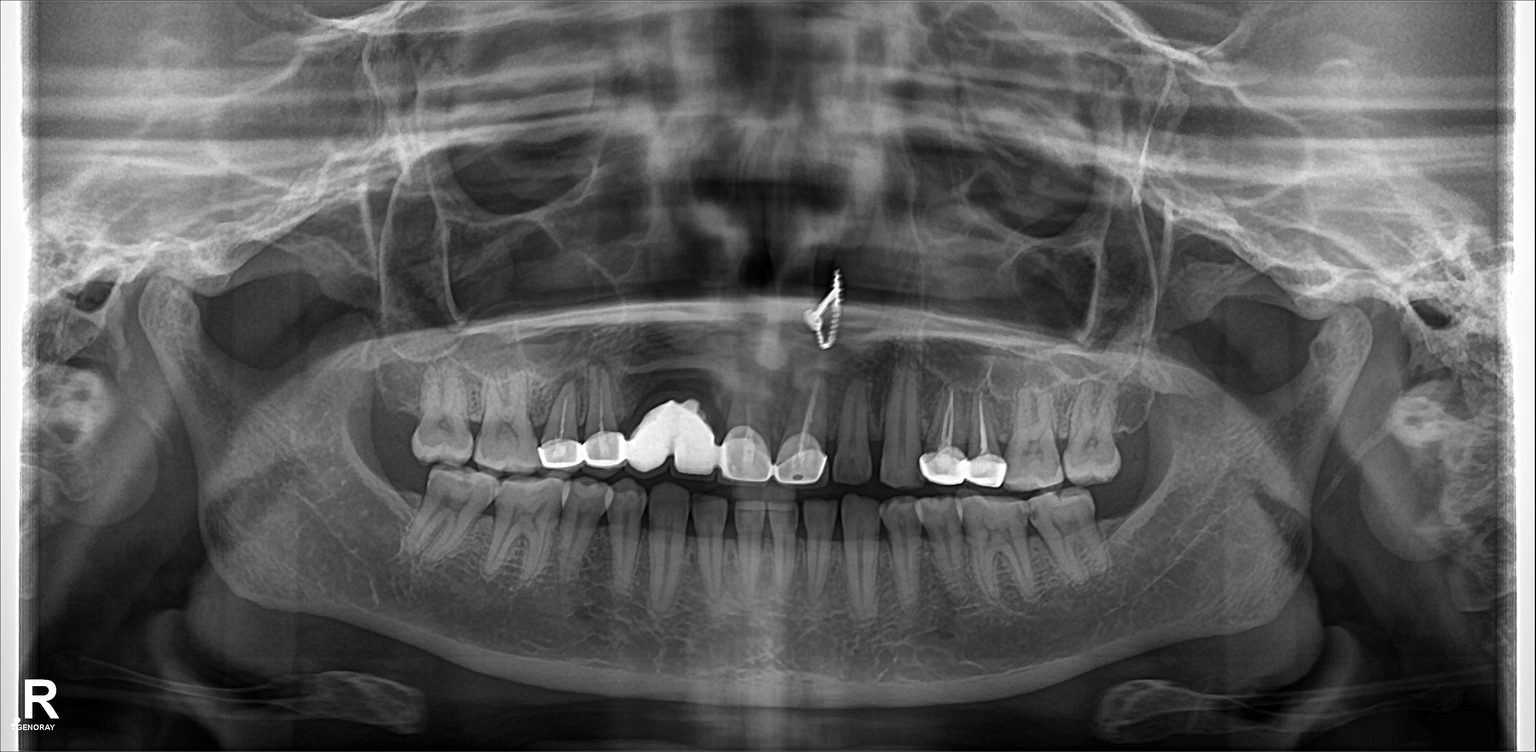Endodontically Treated Tooth: (782, 372, 827, 480), (718, 378, 766, 477), (581, 378, 629, 465), (536, 380, 578, 471), (963, 389, 1001, 483), (928, 387, 964, 480)
Missing Tooth: (372, 456, 422, 557), (374, 357, 420, 451), (1117, 367, 1156, 457), (1102, 493, 1138, 551)
